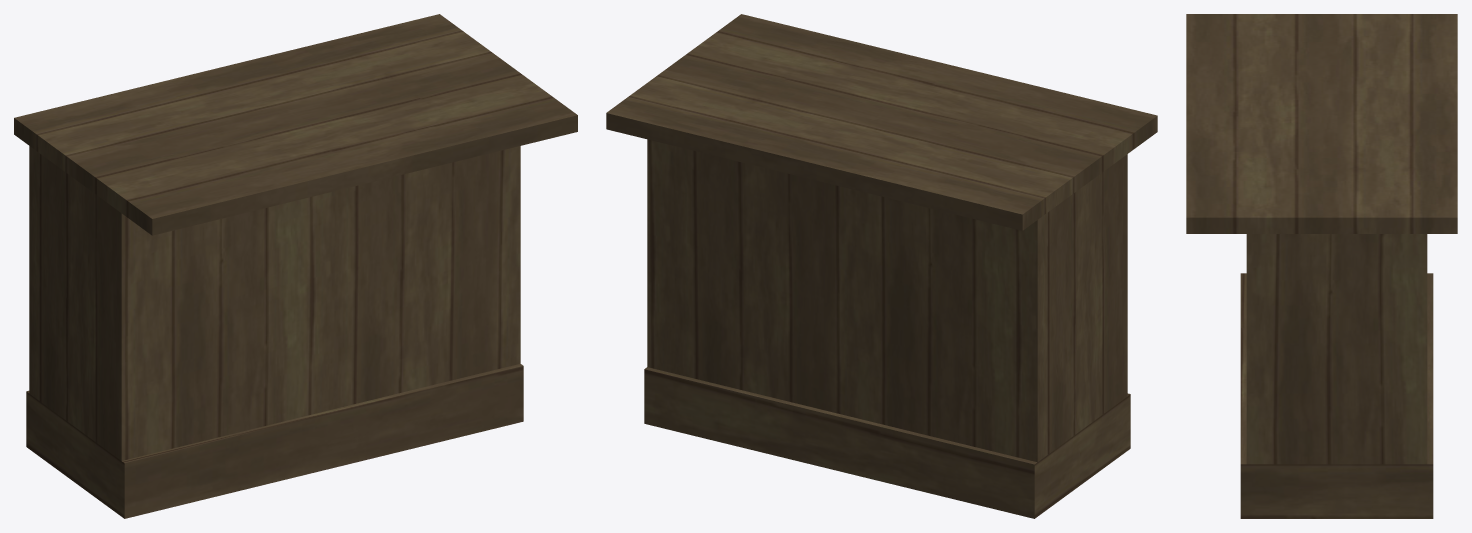
Rendered from counter_R.glb.
3 renders of one model, left to right at view 1: azimuth 30°, elevation 25°; view 2: azimuth 150°, elevation 25°; view 3: azimuth 270°, elevation 25°, orthographic. The views are drawn at different scales.
Visible parts, largest first — view 1: counter_R; view 2: counter_R; view 3: counter_R.
Part boxes in pixels (bbox=[...]): counter_R: bbox=[14, 14, 577, 518]; counter_R: bbox=[606, 14, 1157, 518]; counter_R: bbox=[1186, 14, 1457, 518].
Size of the model in its own units: 1.6 by 1.15 by 0.9.
Materials: 1 (1 with a texture image).
